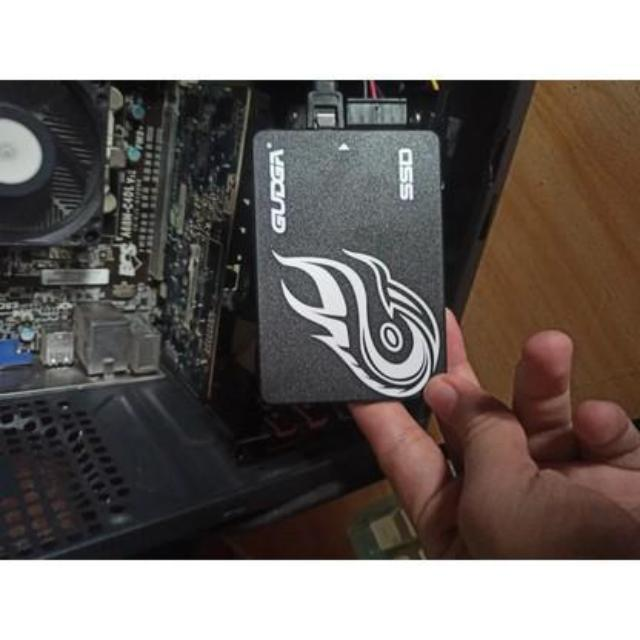DISK: (252, 121, 460, 408)
